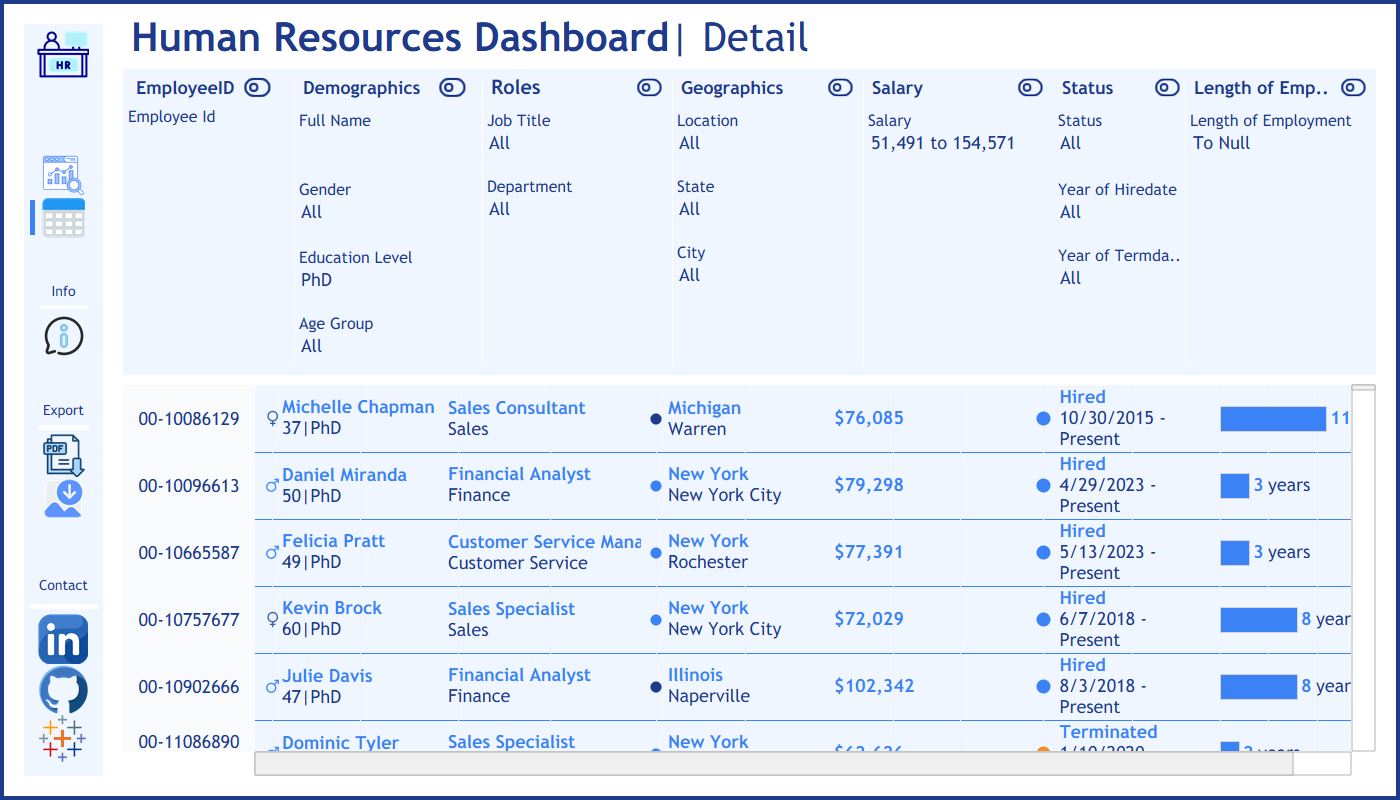

The dashboard page shown, as its layout file describes it:
{"tool":"tableau","page":{"name":"Detail Dashboard","canvas":[1400,800],"ordinal":0},"visuals":[{"type":"text","box":[115,0,1280,524]},{"type":"text","box":[123,4,810,65]},{"type":"blank","box":[933,4,443,65]},{"type":"image","param":"Image/desk.png","box":[24,24,79,60]},{"type":"text","box":[128,69,111,37]},{"type":"dashboard-object","box":[239,69,37,37]},{"type":"blank","box":[294,69,1,306]},{"type":"text","box":[295,69,133,37]},{"type":"dashboard-object","box":[428,69,49,37]},{"type":"blank","box":[482,69,1,306]},{"type":"text","box":[483,69,149.5,37]},{"type":"dashboard-object","box":[632.5,69,35,37]},{"type":"blank","box":[672.5,69,1,306]},{"type":"text","box":[673.5,69,149.5,37]},{"type":"dashboard-object","box":[823,69,35,37]},{"type":"blank","box":[863,69,1,306]},{"type":"text","box":[864,69,149.5,37]},{"type":"dashboard-object","box":[1013.5,69,35,37]},{"type":"blank","box":[1053.5,69,1,306]},{"type":"text","box":[1054.5,69,96,37]},{"type":"dashboard-object","box":[1150.5,69,35,37]},{"type":"blank","box":[1185.5,69,1,306]},{"type":"text","box":[1186.5,69,149.5,37]},{"type":"dashboard-object","box":[1336,69,35,37]},{"type":"blank","box":[24,84,79,60]},{"type":"filter","title":"Details","param":"[federated.0ypcnml06v5kt91b34bzf0u4ldim].[none:employee_id:nk]","box":[128,106,161,55]},{"type":"filter","title":"Details","param":"[federated.0ypcnml06v5kt91b34bzf0u4ldim].[none:Calculation_1067084751912962:nk]","box":[295,106,182,69]},{"type":"filter","title":"Details","param":"[federated.0ypcnml06v5kt91b34bzf0u4ldim].[none:job_title:nk]","box":[483,106,184.5,66]},{"type":"filter","title":"Details","param":"[federated.0ypcnml06v5kt91b34bzf0u4ldim].[none:Calculation_0892261614747653:nk]","box":[673.5,106,184.5,66]},{"type":"filter","title":"Details","param":"[federated.0ypcnml06v5kt91b34bzf0u4ldim].[sum:salary:qk]","box":[864,106,184.5,73]},{"type":"filter","title":"Details","param":"[federated.0ypcnml06v5kt91b34bzf0u4ldim].[none:Calculation_0892261980622864:nk]","box":[1054.5,106,131,69]},{"type":"filter","title":"Details","param":"[federated.0ypcnml06v5kt91b34bzf0u4ldim].[sum:Calculation_1067084759908355:qk]","box":[1186.5,106,184.5,73]},{"type":"dashboard-object","box":[34,154,59,42.5]},{"type":"filter","title":"Details","param":"[federated.0ypcnml06v5kt91b34bzf0u4ldim].[none:department:nk]","box":[483,172,184.5,66]},{"type":"filter","title":"Details","param":"[federated.0ypcnml06v5kt91b34bzf0u4ldim].[none:state:nk]","box":[673.5,172,184.5,66]},{"type":"filter","title":"Details","param":"[federated.0ypcnml06v5kt91b34bzf0u4ldim].[none:gender:nk]","box":[295,175,182,68]},{"type":"filter","title":"Details","param":"[federated.0ypcnml06v5kt91b34bzf0u4ldim].[yr:hiredate:ok]","box":[1054.5,175,131,66]},{"type":"dashboard-object","box":[34,196.5,59,42.5]},{"type":"blank","box":[30,200,5,35]},{"type":"filter","title":"Details","param":"[federated.0ypcnml06v5kt91b34bzf0u4ldim].[none:city:nk]","box":[673.5,238,184.5,66]},{"type":"blank","box":[34,239,59,42.5]},{"type":"filter","title":"Details","param":"[federated.0ypcnml06v5kt91b34bzf0u4ldim].[yr:termdate:ok]","box":[1054.5,241,131,66]},{"type":"filter","title":"Details","param":"[federated.0ypcnml06v5kt91b34bzf0u4ldim].[none:education_level:nk]","box":[295,243,182,66]},{"type":"text","box":[34,281.5,59,20]},{"type":"blank","box":[34,301.5,59,13]},{"type":"filter","title":"Details","param":"[federated.0ypcnml06v5kt91b34bzf0u4ldim].[none:Calculation_0892261629358095:nk]","box":[295,309,182,66]},{"type":"dashboard-object","box":[34,314.5,59,42.5]},{"type":"blank","box":[34,357,59,42.5]},{"type":"worksheet","title":"Details","mark":"Shape","rows":["employee_id"],"cols":["Calculation_1067084751372289","Calculation_1067084751372289","Calculation_1067084751372289","Calculation_0211390136602633","Calculation_0211390135836679","Calculation_1067084759908355"],"box":[123,385,1253,411]},{"type":"text","box":[34,399.5,59,22]},{"type":"blank","box":[34,421.5,59,13]},{"type":"dashboard-object","box":[34,434.5,59,42.5]},{"type":"dashboard-object","box":[34,477,59,42.5]},{"type":"blank","box":[34,519.5,59,42.5]},{"type":"text","box":[24,572,79,27]},{"type":"blank","box":[24,599,79,15]},{"type":"image","param":"Image/linkedin.png","box":[24,614,79,50]},{"type":"image","param":"Image/social.png","box":[24,664,79,50]},{"type":"image","param":"Image/icons8-tableau-software-48.png","box":[24,714,79,50]}]}

Visuals, with their boxes in screenshot pixels (x1, y1, x2, y2), scaled from the page's 1400x800 canvas onto the 1400x800 screenshot:
text: rect(115, 0, 1395, 524)
text: rect(123, 4, 933, 69)
blank: rect(933, 4, 1376, 69)
image: rect(24, 24, 103, 84)
text: rect(128, 69, 239, 106)
dashboard-object: rect(239, 69, 276, 106)
blank: rect(294, 69, 295, 375)
text: rect(295, 69, 428, 106)
dashboard-object: rect(428, 69, 477, 106)
blank: rect(482, 69, 483, 375)
text: rect(483, 69, 632, 106)
dashboard-object: rect(632, 69, 668, 106)
blank: rect(672, 69, 674, 375)
text: rect(674, 69, 823, 106)
dashboard-object: rect(823, 69, 858, 106)
blank: rect(863, 69, 864, 375)
text: rect(864, 69, 1014, 106)
dashboard-object: rect(1014, 69, 1048, 106)
text: rect(1054, 69, 1150, 106)
dashboard-object: rect(1150, 69, 1186, 106)
text: rect(1186, 69, 1336, 106)
dashboard-object: rect(1336, 69, 1371, 106)
blank: rect(24, 84, 103, 144)
"Details" filter: rect(128, 106, 289, 161)
"Details" filter: rect(295, 106, 477, 175)
"Details" filter: rect(483, 106, 668, 172)
"Details" filter: rect(674, 106, 858, 172)
"Details" filter: rect(864, 106, 1048, 179)
"Details" filter: rect(1054, 106, 1186, 175)
"Details" filter: rect(1186, 106, 1371, 179)
dashboard-object: rect(34, 154, 93, 196)
"Details" filter: rect(483, 172, 668, 238)
"Details" filter: rect(674, 172, 858, 238)
"Details" filter: rect(295, 175, 477, 243)
"Details" filter: rect(1054, 175, 1186, 241)
dashboard-object: rect(34, 196, 93, 239)
blank: rect(30, 200, 35, 235)
"Details" filter: rect(674, 238, 858, 304)
blank: rect(34, 239, 93, 282)
"Details" filter: rect(1054, 241, 1186, 307)
"Details" filter: rect(295, 243, 477, 309)
text: rect(34, 282, 93, 302)
blank: rect(34, 302, 93, 314)
"Details" filter: rect(295, 309, 477, 375)
dashboard-object: rect(34, 314, 93, 357)
blank: rect(34, 357, 93, 400)
"Details" worksheet (Shape marks): rect(123, 385, 1376, 796)
text: rect(34, 400, 93, 422)
blank: rect(34, 422, 93, 434)
dashboard-object: rect(34, 434, 93, 477)
dashboard-object: rect(34, 477, 93, 520)
blank: rect(34, 520, 93, 562)
text: rect(24, 572, 103, 599)
blank: rect(24, 599, 103, 614)
image: rect(24, 614, 103, 664)
image: rect(24, 664, 103, 714)
image: rect(24, 714, 103, 764)
